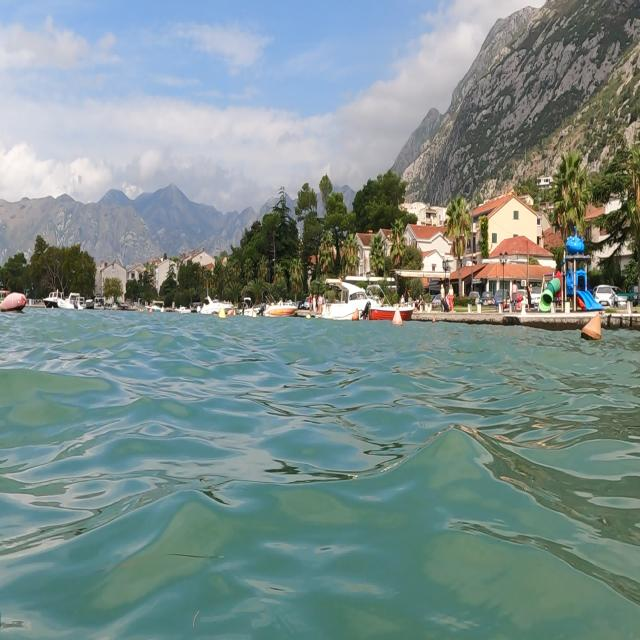boat: (318, 272, 384, 334), (365, 276, 416, 326), (44, 281, 94, 320), (261, 291, 303, 326), (199, 292, 239, 320)
buoy: (576, 307, 608, 351), (0, 280, 29, 326), (391, 308, 404, 329)
